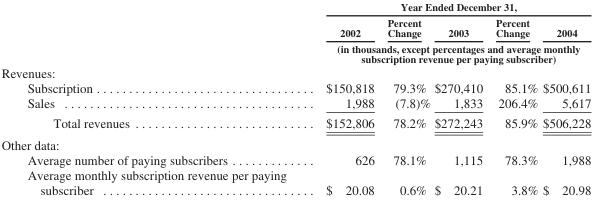table: (0, 0, 590, 196)
table column: (0, 0, 305, 196), (305, 0, 380, 196), (431, 0, 488, 196), (380, 0, 431, 196), (488, 0, 539, 196), (539, 0, 590, 196)
table column header: (0, 0, 590, 64)
table projected row header: (0, 133, 590, 152), (0, 64, 590, 79)
table row: (0, 167, 590, 196), (0, 14, 590, 40), (0, 40, 590, 64), (0, 112, 590, 133), (0, 133, 590, 152), (0, 94, 590, 112), (0, 64, 590, 79), (0, 79, 590, 94), (0, 152, 590, 167), (0, 0, 590, 14)
table spanning cell: (305, 40, 590, 64), (305, 0, 590, 14)
